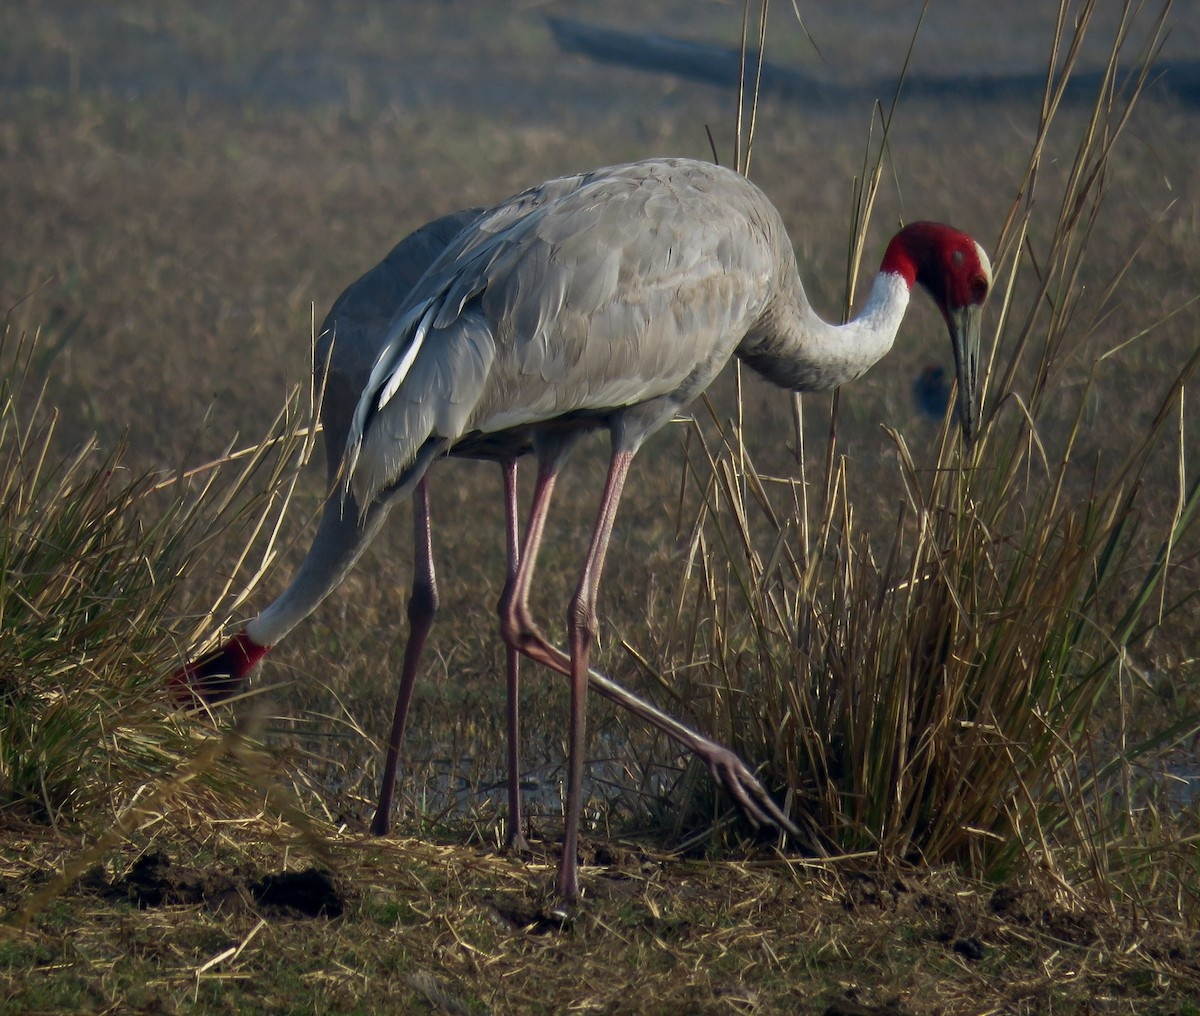crane: (228, 154, 1040, 875)
